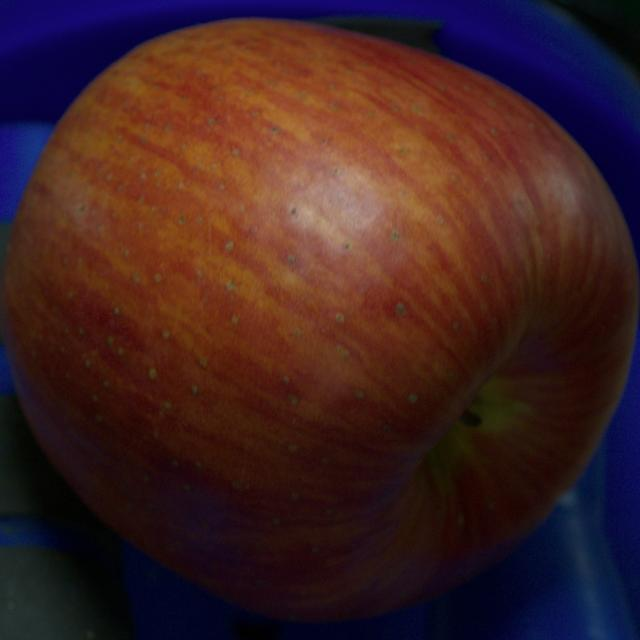apple: (0, 19, 639, 621)
